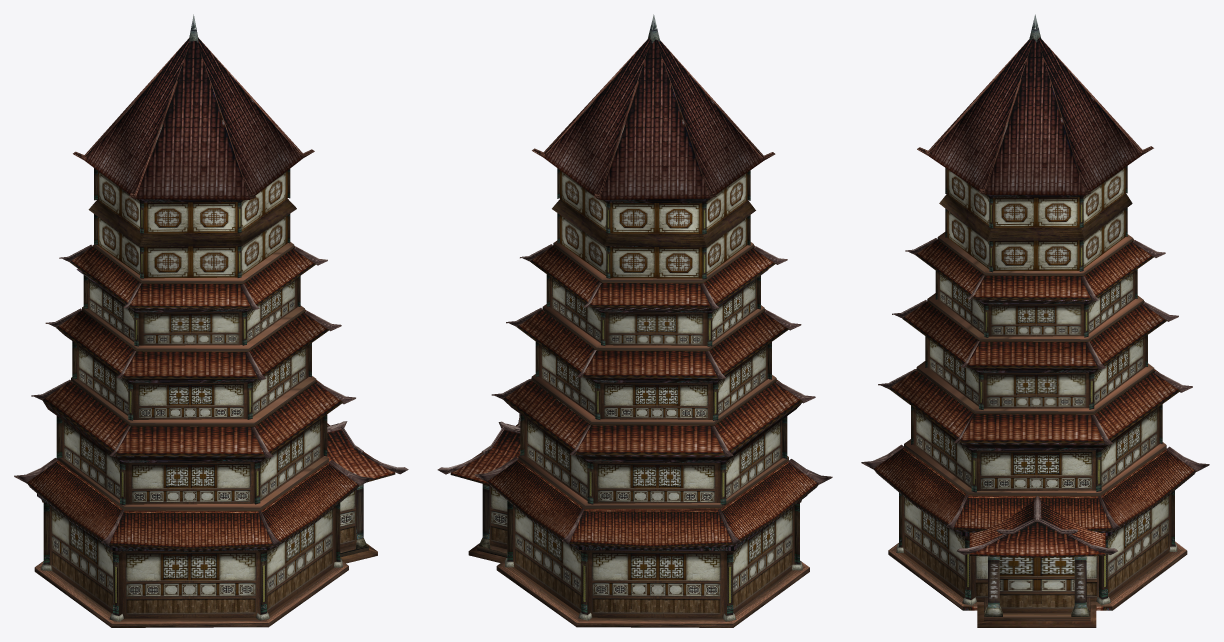
Rendered from a1-013-6tower_lod_01.fbx.
3 renders of one model, left to right at view 1: azimuth 30°, elevation 25°; view 2: azimuth 150°, elevation 25°; view 3: azimuth 270°, elevation 25°, orthographic. The views are drawn at different scales.
Visible parts, largest first — view 1: a1-013-6tower-01, a1-013-6tower-02; view 2: a1-013-6tower-01, a1-013-6tower-02; view 3: a1-013-6tower-01, a1-013-6tower-02.
Part boxes in pixels (bbox=[...]): a1-013-6tower-01: bbox=[43, 14, 377, 618]; a1-013-6tower-02: bbox=[14, 199, 408, 627]; a1-013-6tower-01: bbox=[468, 14, 799, 618]; a1-013-6tower-02: bbox=[437, 198, 832, 627]; a1-013-6tower-01: bbox=[899, 14, 1174, 627]; a1-013-6tower-02: bbox=[861, 194, 1209, 621].
Size of the model in its own units: 15.62 by 26.84 by 15.67.
